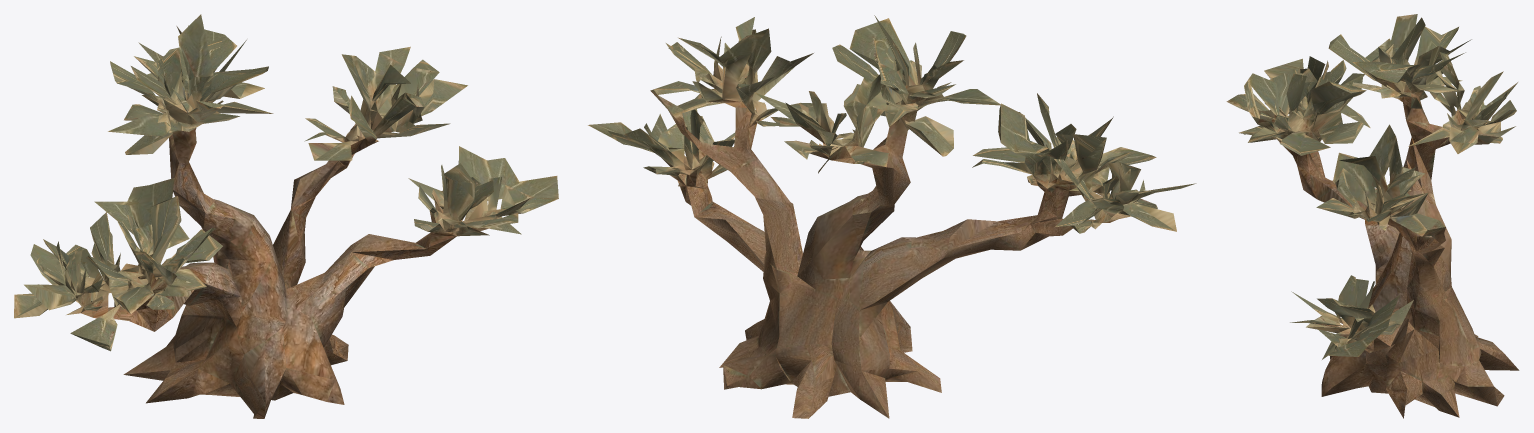
Rendered from de_dustysage_shrub.glb.
3 views of the same model, side by side, from view 1: azimuth 30°, elevation 25°; view 2: azimuth 150°, elevation 25°; view 3: azimuth 270°, elevation 25° (orthographic). The views are drawn at different scales.
Visible parts, largest first — view 1: mesh; view 2: mesh; view 3: mesh.
Boxes of the visible parts, box(x1,y1,x2,y2) form: mesh: box(14, 14, 558, 418); mesh: box(588, 15, 1196, 418); mesh: box(1226, 14, 1519, 418).
Bounding box in the file's own units: 1.87 × 1.18 × 0.9182.
Materials: 1 (1 with a texture image).
